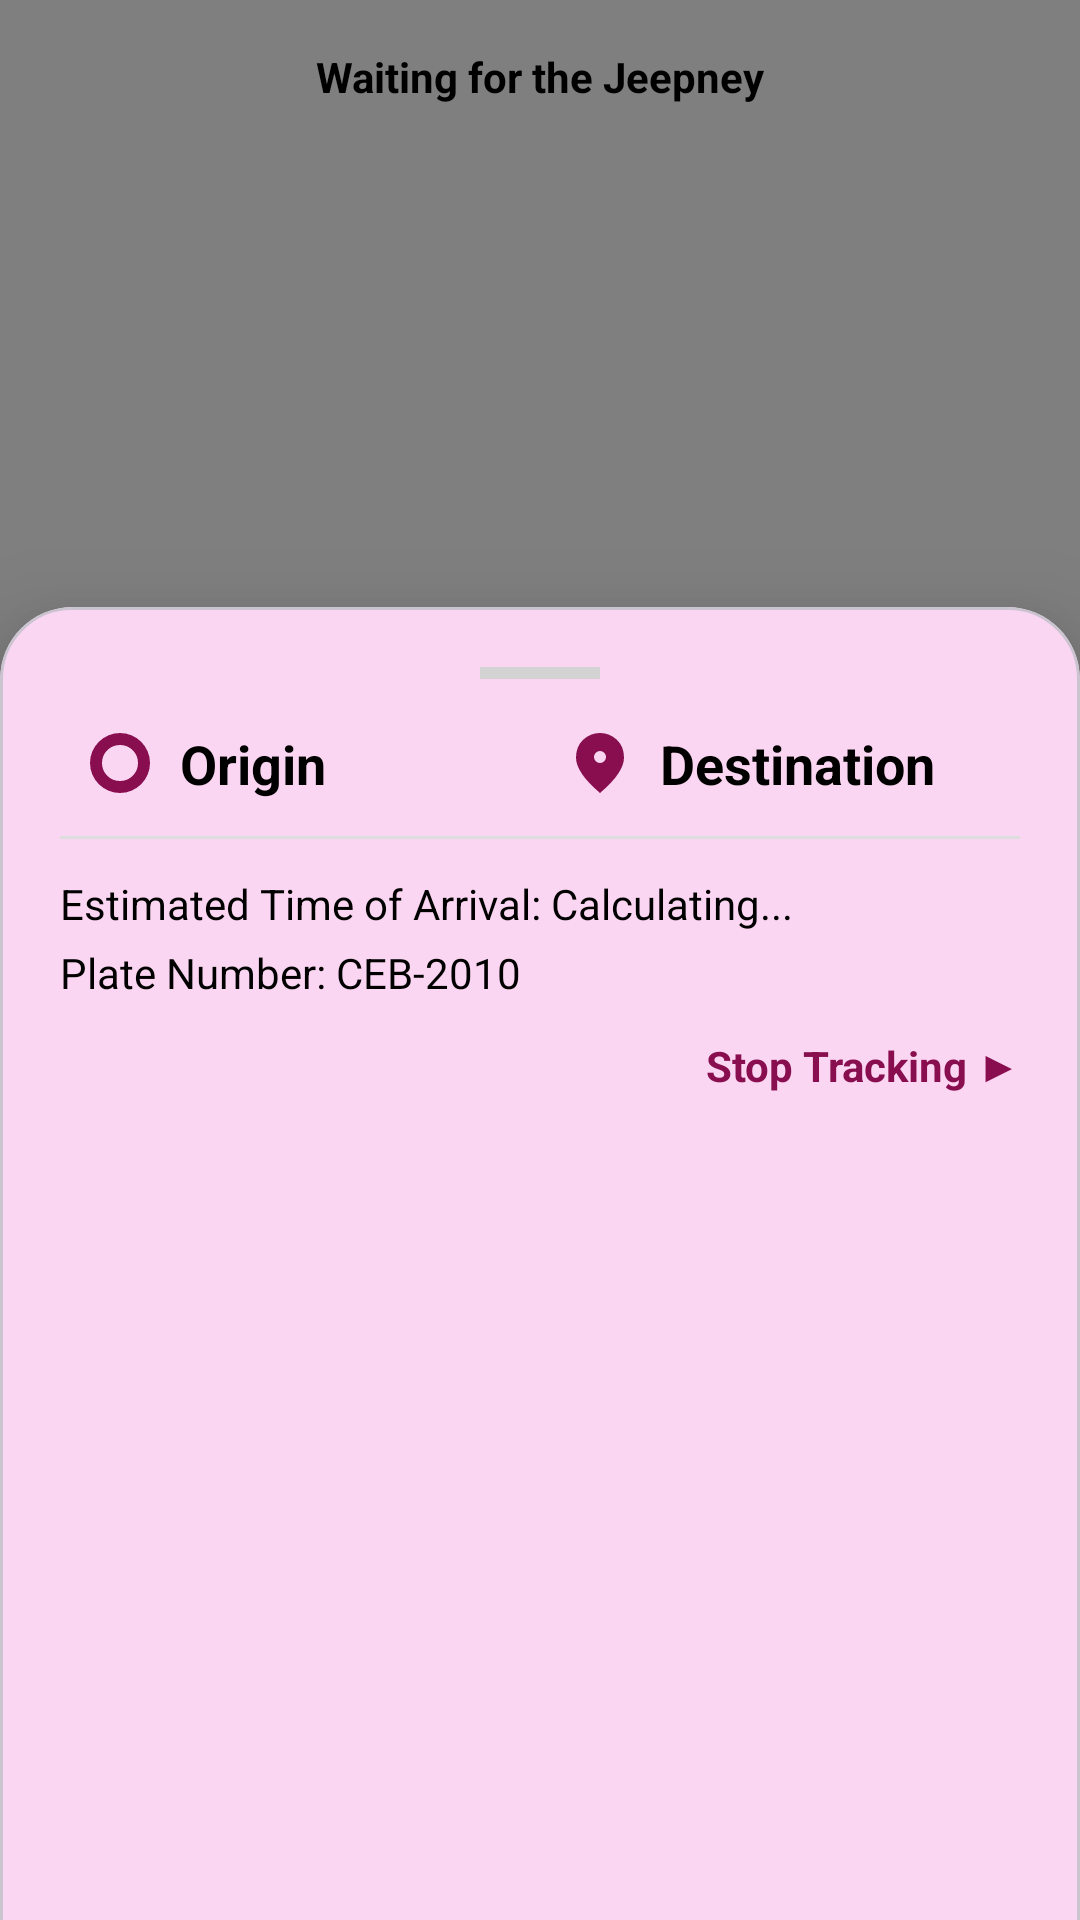

Named icons in this screenshot (1080 x 1920) and their bounding boxes, (x1, y1, x2, y2):
location on: (576, 733, 624, 793)
